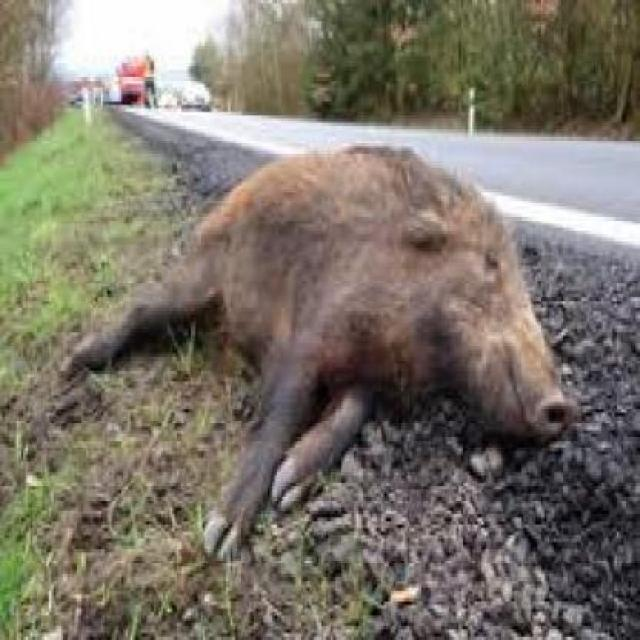wildboar: (54, 138, 578, 560)
